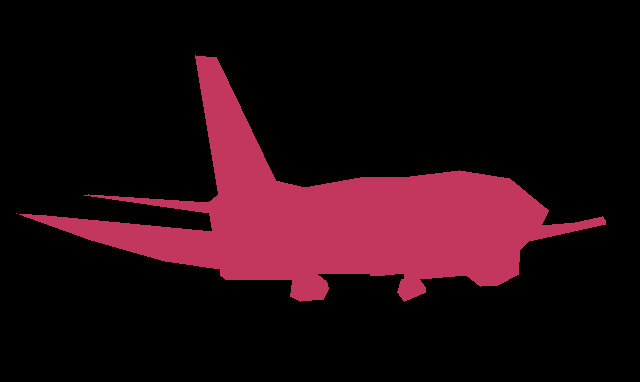Airplane: (16, 55, 605, 301)
